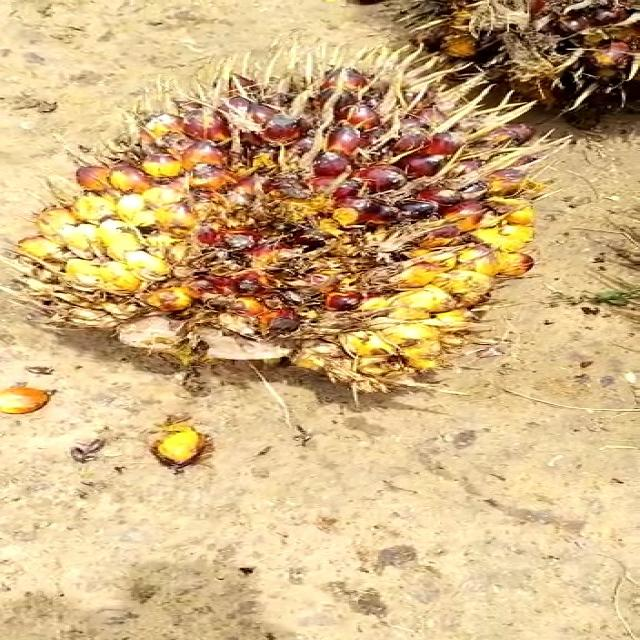palm oil: (23, 73, 551, 412)
